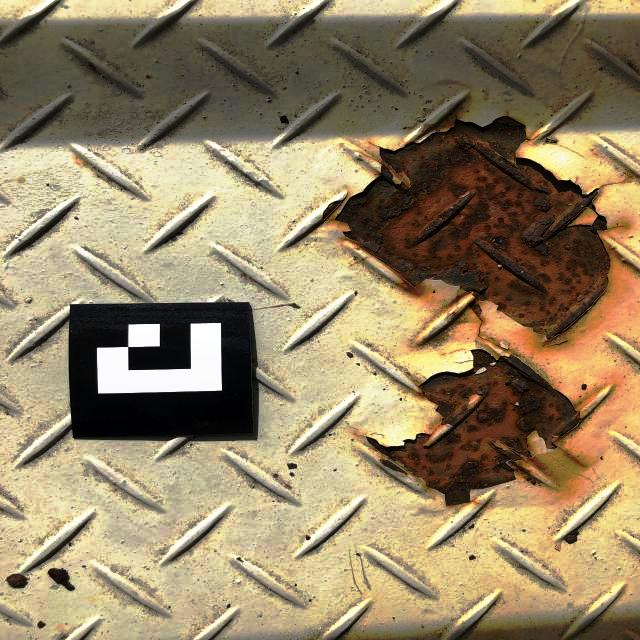Corrosion: (322, 117, 611, 346), (366, 350, 588, 507)
